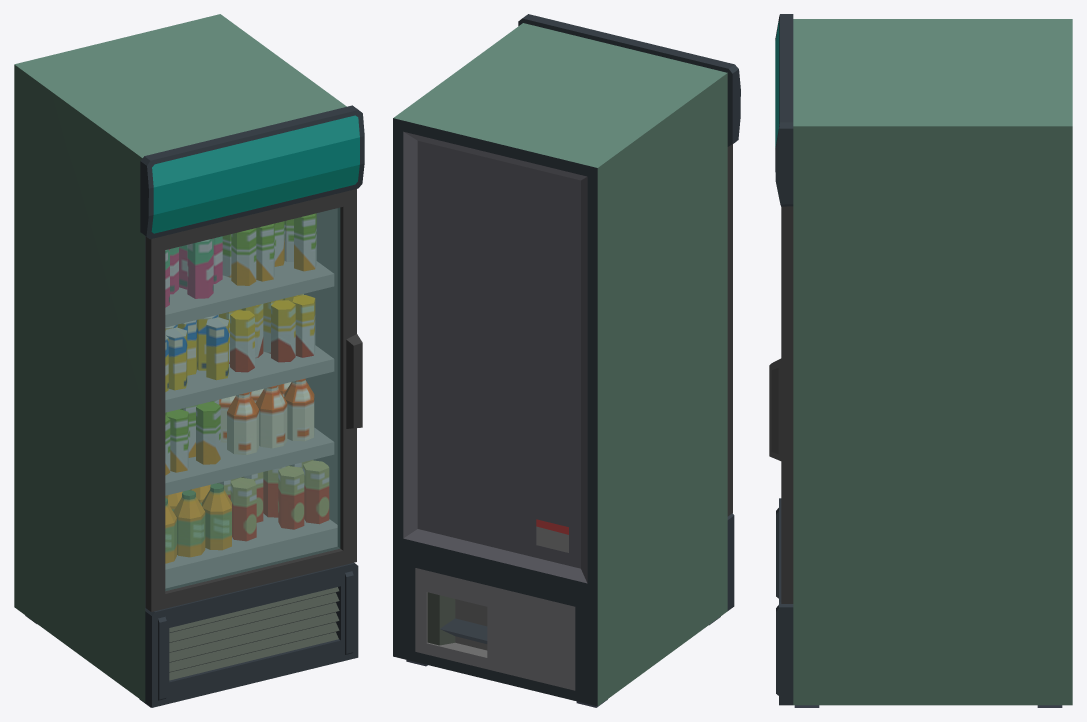
Rendered from Market Fridge 2.fbx.
3 views of the same model, side by side, from view 1: azimuth 30°, elevation 25°; view 2: azimuth 150°, elevation 25°; view 3: azimuth 270°, elevation 25° (orthographic). The views are drawn at different scales.
Parts seen in each view (by area): view 1: Market_Fridge_2; view 2: Market_Fridge_2; view 3: Market_Fridge_2.
Boxes of the visible parts, left/top/right/bottom form: Market_Fridge_2: left=14, top=14, right=364, bottom=707; Market_Fridge_2: left=393, top=14, right=740, bottom=707; Market_Fridge_2: left=769, top=14, right=1072, bottom=707.
Bounding box in the file's own units: 46.89 × 115 × 53.55.
